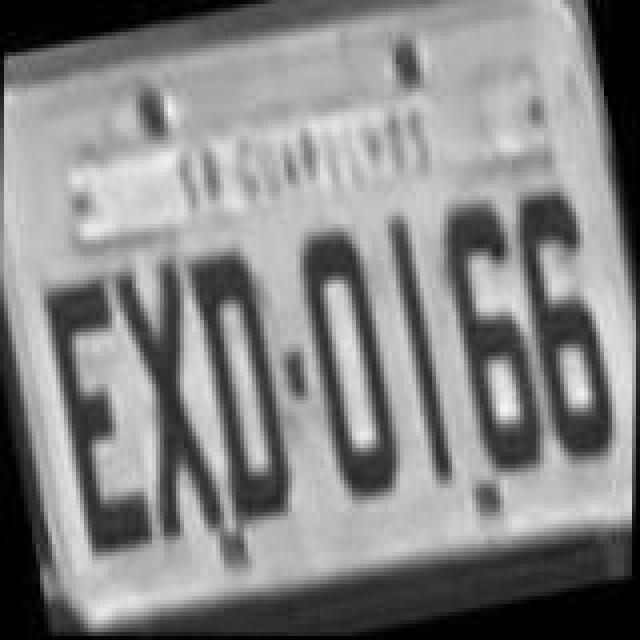1: (376, 210, 468, 490)
6: (428, 188, 560, 488), (502, 178, 630, 474)
D: (182, 244, 306, 532)
E: (34, 264, 166, 564)
O: (286, 216, 414, 512)
X: (106, 248, 238, 552)
